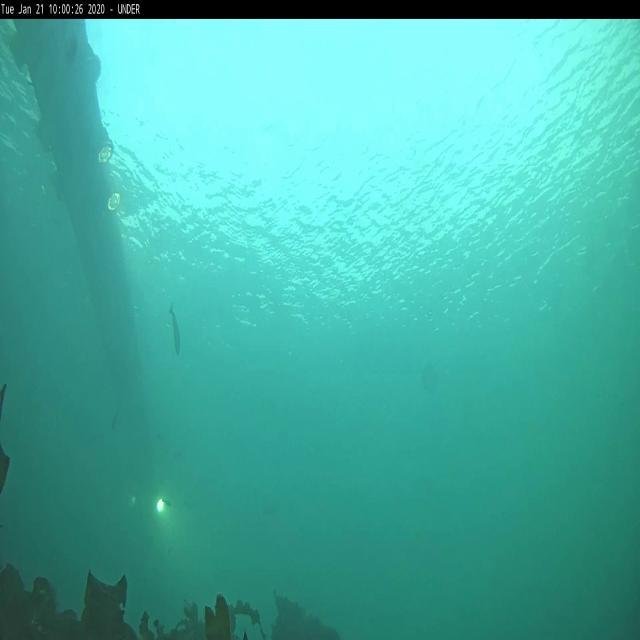fish: (166, 301, 180, 354)
